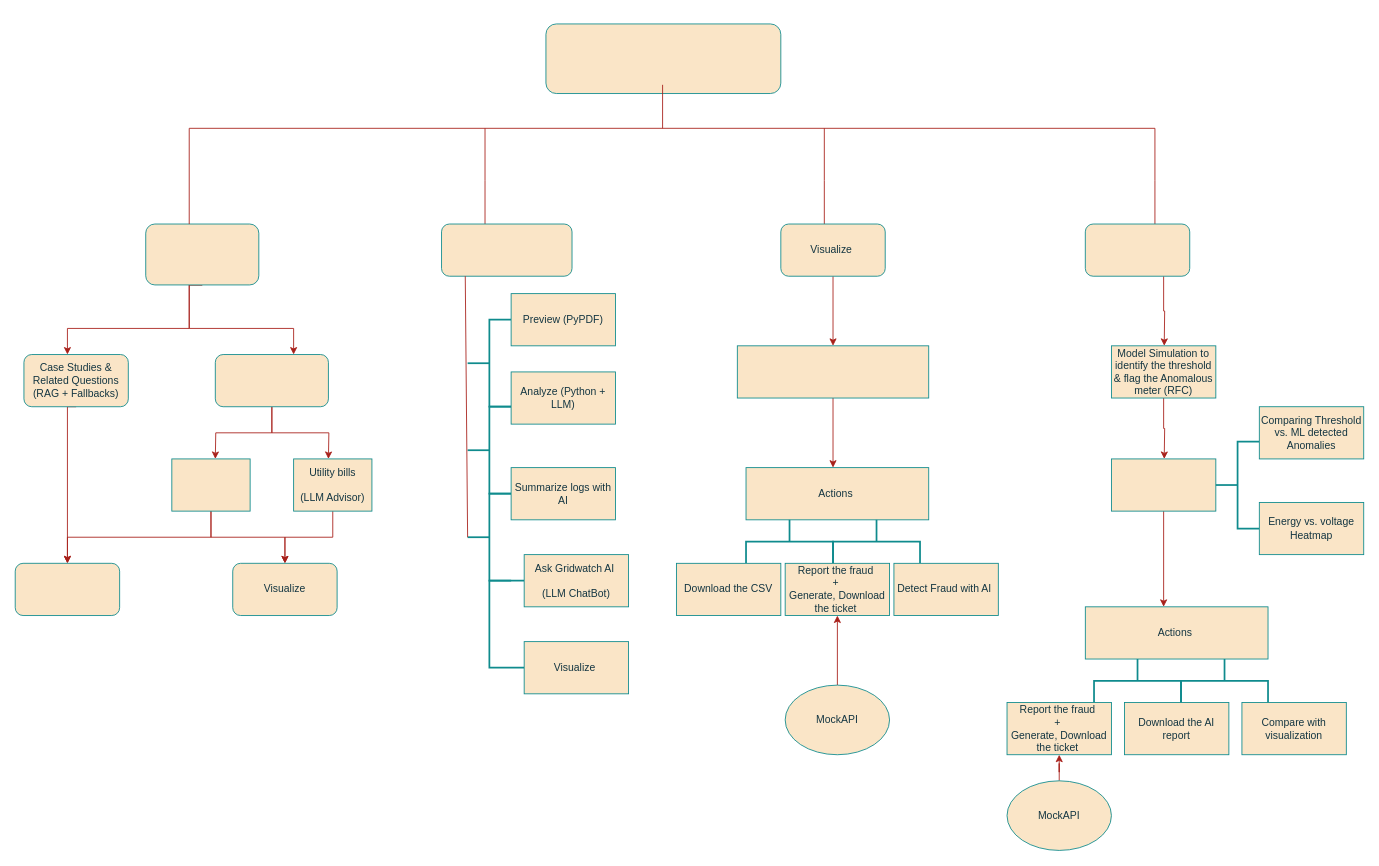
Some shapes in this 1379 by 866 pixel diagram are drawn without their labels. Here are the shapes that lost their labels. From the top down, the centre of each, then its label:
At (663,58): "GridwatchAI A multimodal AI agent for Logs & Bills Analysis".
At (202,254): "Chat with GridWatchAI (RAG + LLM)".
At (506,249): "Bills/ Logs Upload Parser (pdf, doc, txt, json, csv)".
At (1137,249): "AI-based fraud detection".
At (271,380): "Uploaded Files based Questions".
At (832,371): "Plots (Line, Histogram, Bar, Geo, Box)".
At (210,484): "Smart meter logs (LLM Analyser)".
At (1163,484): "Plots".
At (67,589): "Download the generated report as Text".
